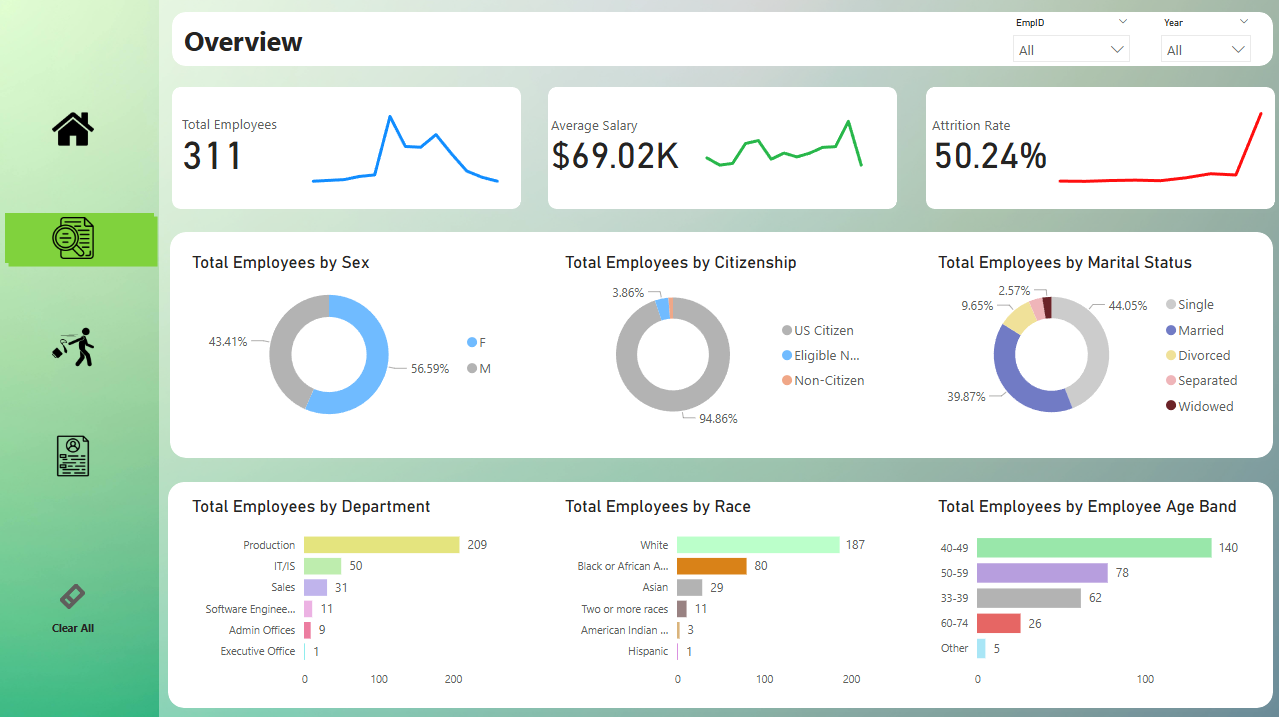

The dashboard page shown, as its layout file describes it:
{"tool":"powerbi","page":{"name":"OVERVIEW","canvas":[1280,720],"ordinal":1},"visuals":[{"type":"shape","box":[0,210,159,60],"z":0},{"type":"shape","box":[159,0,1121,720],"z":1000},{"type":"shape","box":[167,9,1111,64],"z":2000},{"type":"shape","box":[167,84,359,132],"z":3000},{"type":"shape","box":[543,84,359,132],"z":4000},{"type":"shape","box":[921,84,359,132],"z":5000},{"type":"shape","box":[165,229,1113,236],"z":6000},{"type":"shape","box":[163,479,1115,236],"z":7000},{"type":"cardVisual","fields":{"Data":["_measure.Total Employees"]},"box":[159,110,141,80],"z":8000},{"type":"lineChart","fields":{"Y":["_measure.Total Employees"],"Category":["Date Table.Year"]},"box":[283,91,260,99],"z":9000},{"type":"cardVisual","fields":{"Data":["_measure.Average Salary"]},"box":[528,110,195,80],"z":10000},{"type":"lineChart","fields":{"Y":["_measure.Average Salary"],"Category":["Date Table.Year"]},"box":[679,91,223,99],"z":11000},{"type":"cardVisual","fields":{"Data":["_measure.Attrition Rate"]},"box":[909,110,163,80],"z":12000},{"type":"lineChart","fields":{"Y":["_measure.Attrition Rate"],"Category":["Date Table.Year"]},"box":[1045,91,231,99],"z":13000},{"type":"donutChart","fields":{"Y":["_measure.Total Employees"],"Category":["HRDataset.Sex"]},"box":[187,254,319,186],"z":14000},{"type":"donutChart","fields":{"Y":["_measure.Total Employees"],"Category":["HRDataset.CitizenDesc"]},"box":[560,254,319,186],"z":15000},{"type":"donutChart","fields":{"Y":["_measure.Total Employees"],"Category":["HRDataset.MaritalDesc"]},"box":[933,254,319,186],"z":16000},{"type":"barChart","fields":{"Y":["_measure.Total Employees"],"Category":["HRDataset.Department"]},"box":[187,498,319,201],"z":17000},{"type":"barChart","fields":{"Y":["_measure.Total Employees"],"Category":["HRDataset.RaceDesc"]},"box":[560,498,319,201],"z":18000},{"type":"barChart","fields":{"Y":["_measure.Total Employees"],"Category":["HRDataset.Employee Age Band"]},"box":[933,498,319,201],"z":19000},{"type":"slicer","fields":{"Values":["Date Table.Year"]},"box":[1151,14,110,55],"z":20000},{"type":"textbox","box":[179,19,219,59],"z":21000},{"type":"actionButton","box":[56,582,33,33],"z":22000},{"type":"image","box":[48,110,50,42],"z":23000},{"type":"image","box":[48,328,50,42],"z":24000},{"type":"image","box":[48,219,50,42],"z":25000},{"type":"image","box":[48,437,50,42],"z":26000},{"type":"textbox","box":[39,615,68,31],"z":27000},{"type":"slicer","fields":{"Values":["HRDataset.EmpID"]},"box":[1003,14,137,62],"z":28000}]}

Visuals, with their boxes on the page's 1280x720 design canvas (x1, y1, x2, y2). These are canvas units, not pixel positions in the 1279x717 screenshot, which may show the page scaled, cropped or inside an application window:
shape: 0/210/159/270
shape: 159/0/1280/720
shape: 167/9/1278/73
shape: 167/84/526/216
shape: 543/84/902/216
shape: 921/84/1280/216
shape: 165/229/1278/465
shape: 163/479/1278/715
cardVisual - _measure.Total Employees: 159/110/300/190
lineChart - _measure.Total Employees x Date Table.Year: 283/91/543/190
cardVisual - _measure.Average Salary: 528/110/723/190
lineChart - _measure.Average Salary x Date Table.Year: 679/91/902/190
cardVisual - _measure.Attrition Rate: 909/110/1072/190
lineChart - _measure.Attrition Rate x Date Table.Year: 1045/91/1276/190
donutChart - _measure.Total Employees x HRDataset.Sex: 187/254/506/440
donutChart - _measure.Total Employees x HRDataset.CitizenDesc: 560/254/879/440
donutChart - _measure.Total Employees x HRDataset.MaritalDesc: 933/254/1252/440
barChart - _measure.Total Employees x HRDataset.Department: 187/498/506/699
barChart - _measure.Total Employees x HRDataset.RaceDesc: 560/498/879/699
barChart - _measure.Total Employees x HRDataset.Employee Age Band: 933/498/1252/699
slicer - Date Table.Year: 1151/14/1261/69
textbox: 179/19/398/78
actionButton: 56/582/89/615
image: 48/110/98/152
image: 48/328/98/370
image: 48/219/98/261
image: 48/437/98/479
textbox: 39/615/107/646
slicer - HRDataset.EmpID: 1003/14/1140/76
